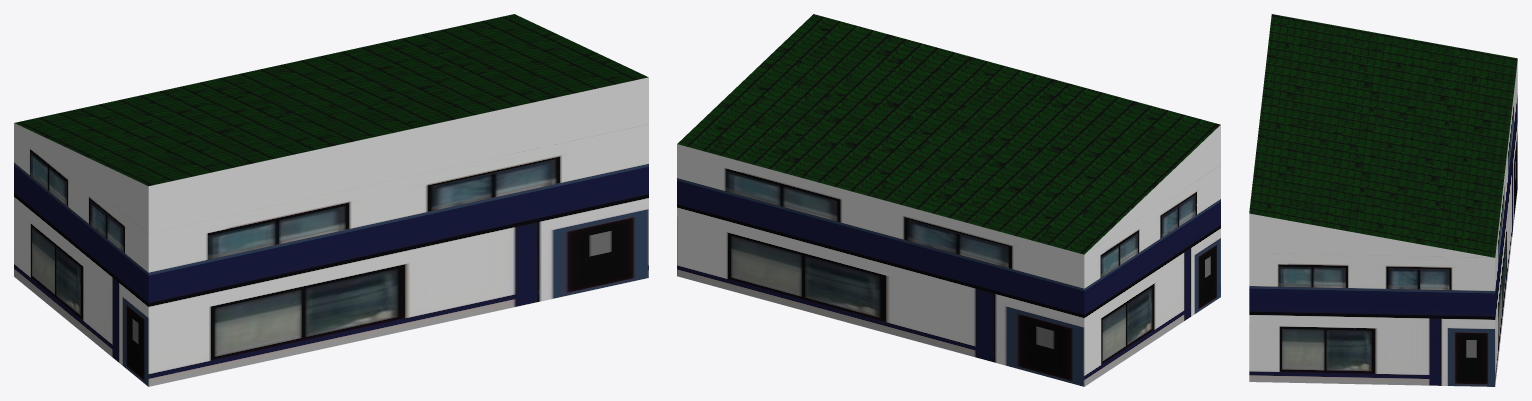
3 renders of one model, left to right at view 1: azimuth 30°, elevation 25°; view 2: azimuth 150°, elevation 25°; view 3: azimuth 270°, elevation 25°, orthographic. The views are drawn at different scales.
Parts seen in each view (by area): view 1: CityEngineMaterial_2_m, CityEngineMaterial_13_m, CityEngineMaterial_3_m; view 2: CityEngineMaterial_2_m, CityEngineMaterial_13_m, CityEngineMaterial_3_m; view 3: CityEngineMaterial_13_m, CityEngineMaterial_2_m, CityEngineMaterial_3_m.
Part boxes in pixels (<box>): CityEngineMaterial_2_m: <box>14,123,648,386</box>; CityEngineMaterial_13_m: <box>15,14,648,186</box>; CityEngineMaterial_3_m: <box>14,77,648,232</box>; CityEngineMaterial_2_m: <box>677,144,1220,386</box>; CityEngineMaterial_13_m: <box>677,14,1220,254</box>; CityEngineMaterial_3_m: <box>1085,125,1220,253</box>; CityEngineMaterial_13_m: <box>1249,14,1517,257</box>; CityEngineMaterial_2_m: <box>1249,61,1517,386</box>; CityEngineMaterial_3_m: <box>1249,213,1494,257</box>.
Bounding box in the file's own units: 25.44 × 9.78 × 14.13.
